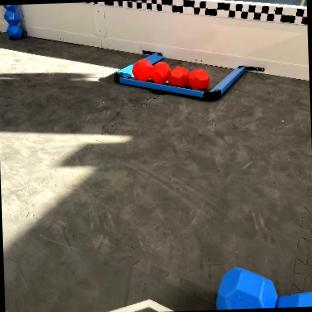V5_BLUE: (217, 268, 312, 309), (4, 5, 23, 40)
